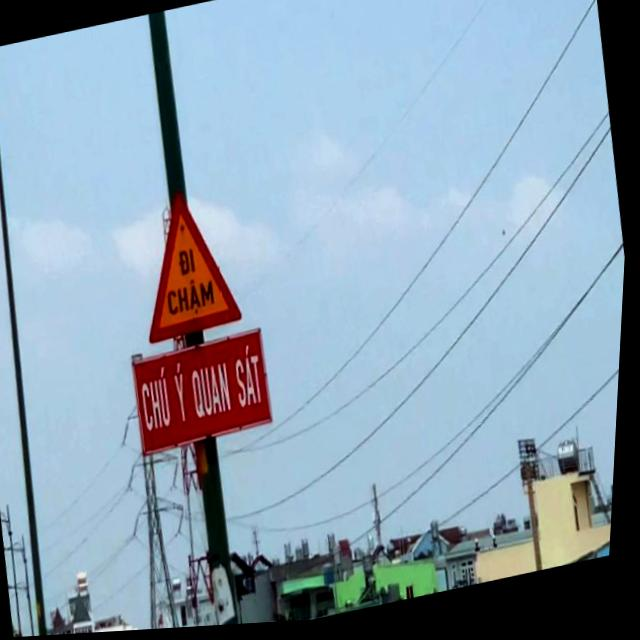Di cham: (129, 178, 254, 350)
